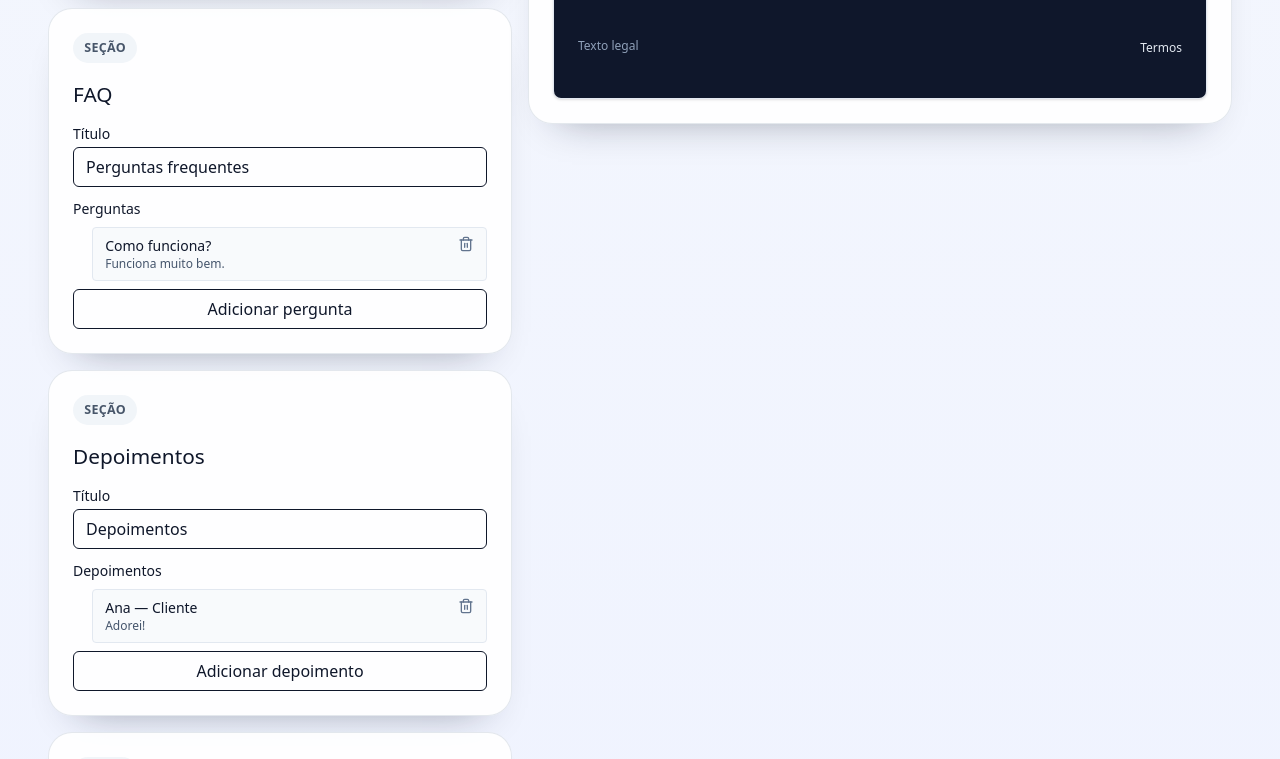
Scenario: PresellsV2EditPage forms › adds an FAQ item through the add modal
(page scrolled)
Click the button "Adicionar pergunta" at (280, 309), box [73,289,487,329]
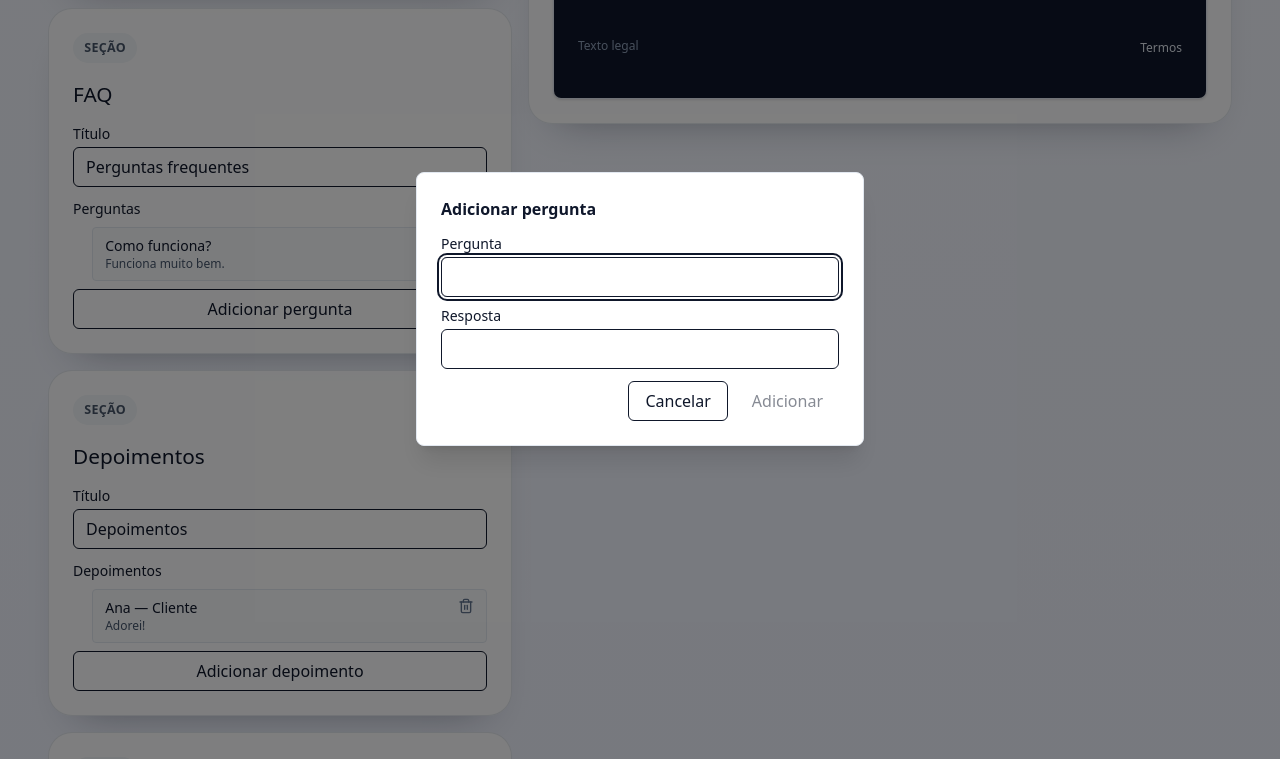
Type "Quanto custa?" into the field labelled "Pergunta" at (640, 277), box [441,257,839,297]
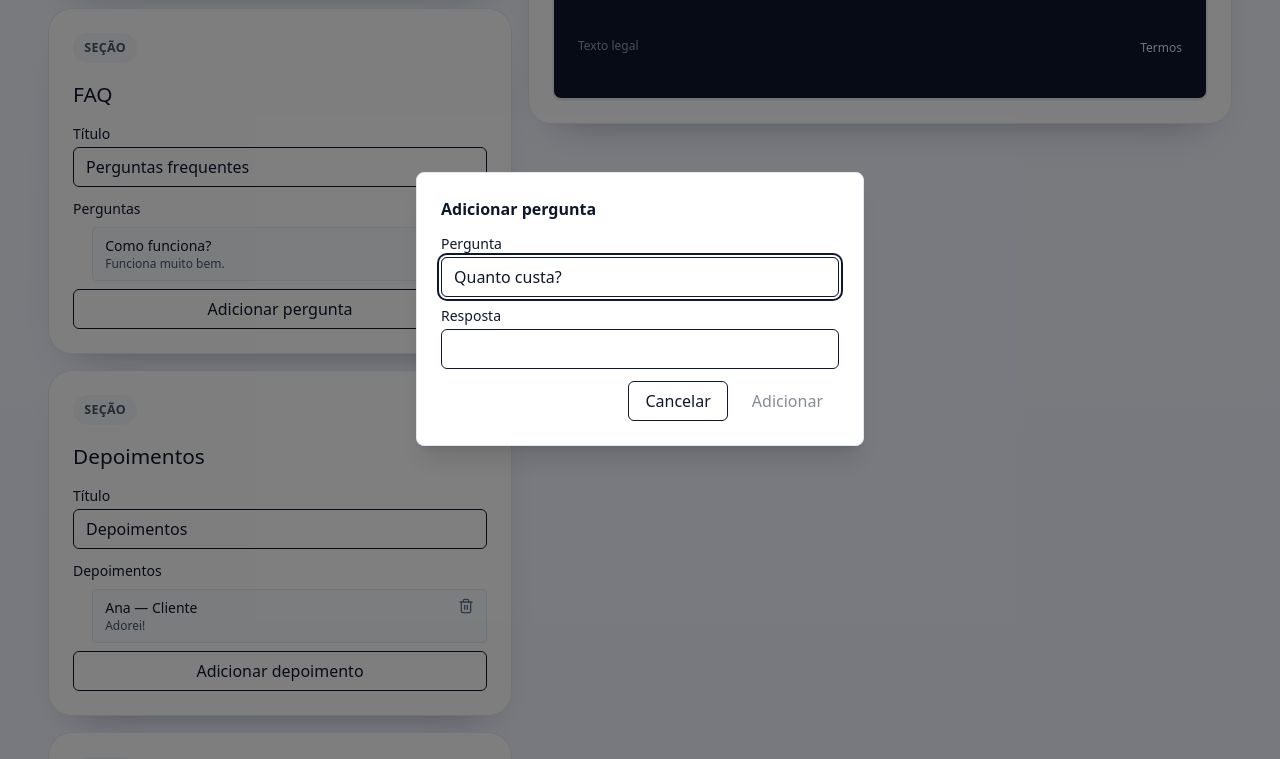
Type "Bem barato." into the field labelled "Resposta" at (640, 349), box [441,329,839,369]
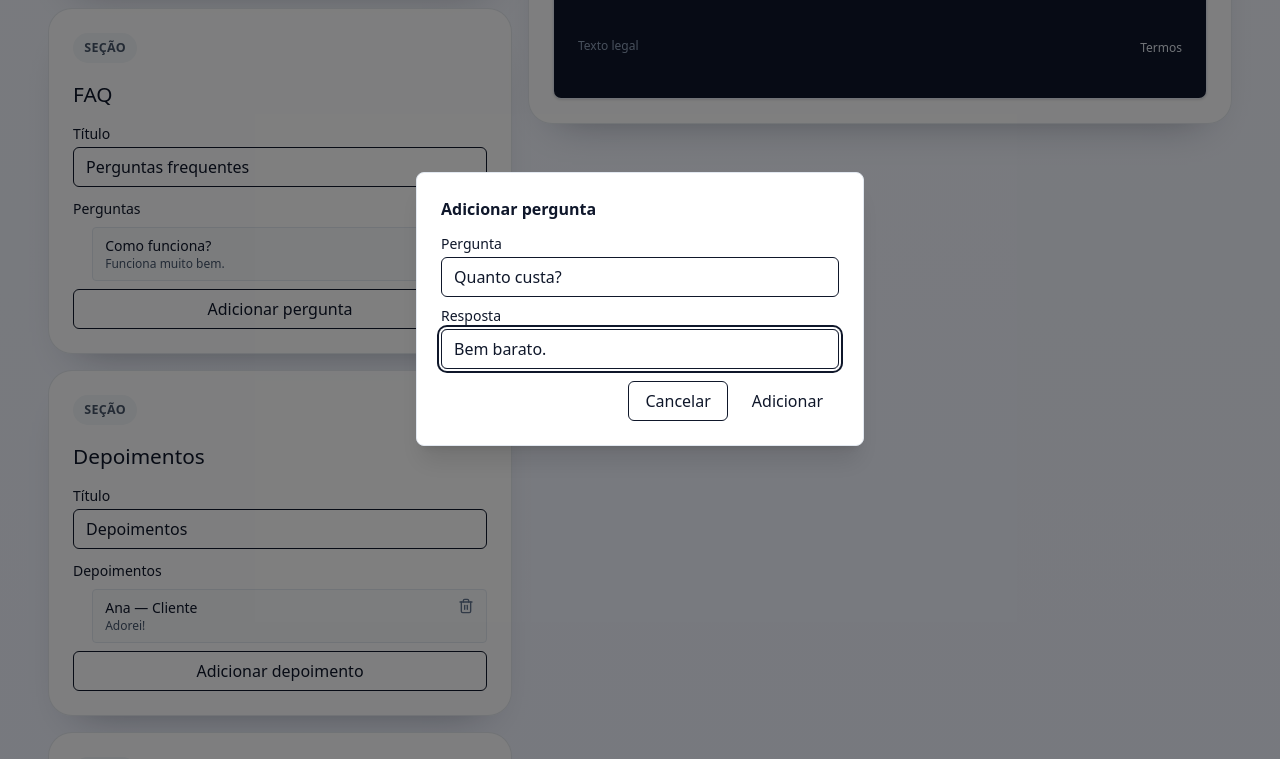
Click the button "Adicionar" at (787, 401), box [736,381,839,421]
(page scrolled)
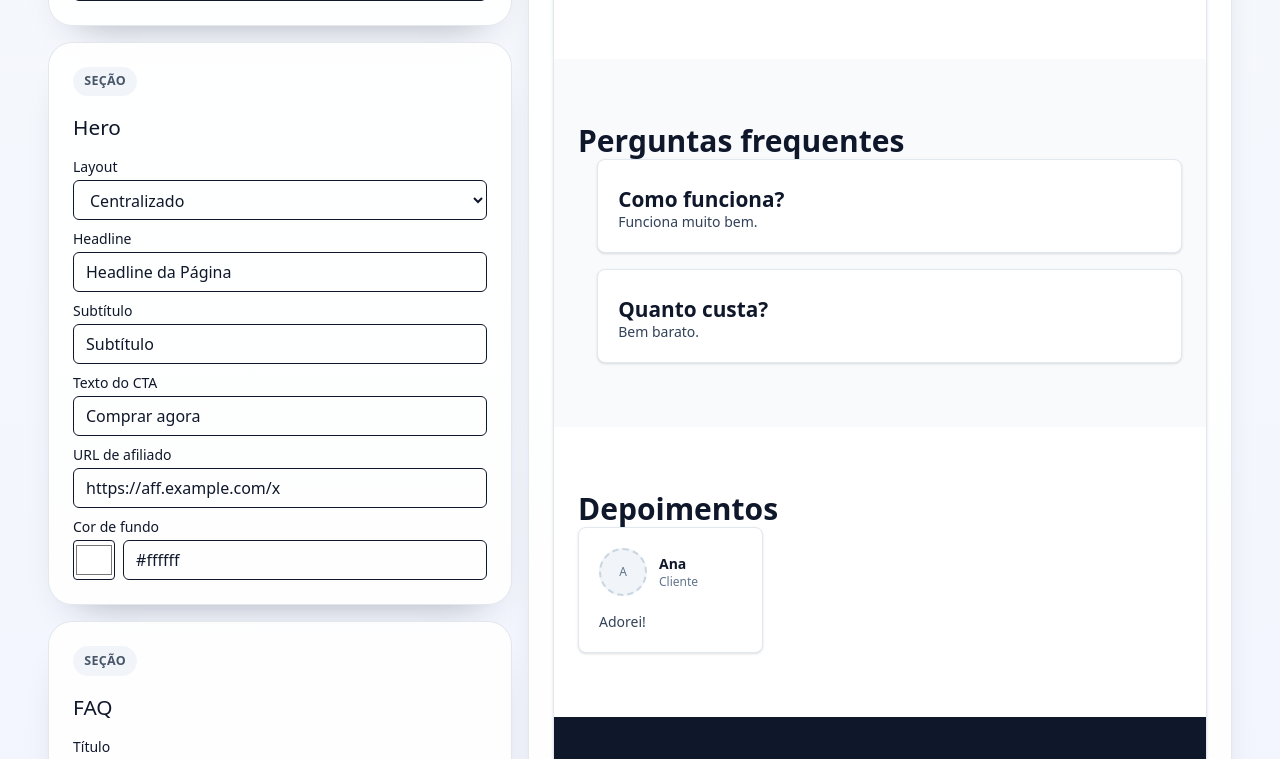
Check: the heading "Quanto custa?" is shown, box [618,295,768,323]
